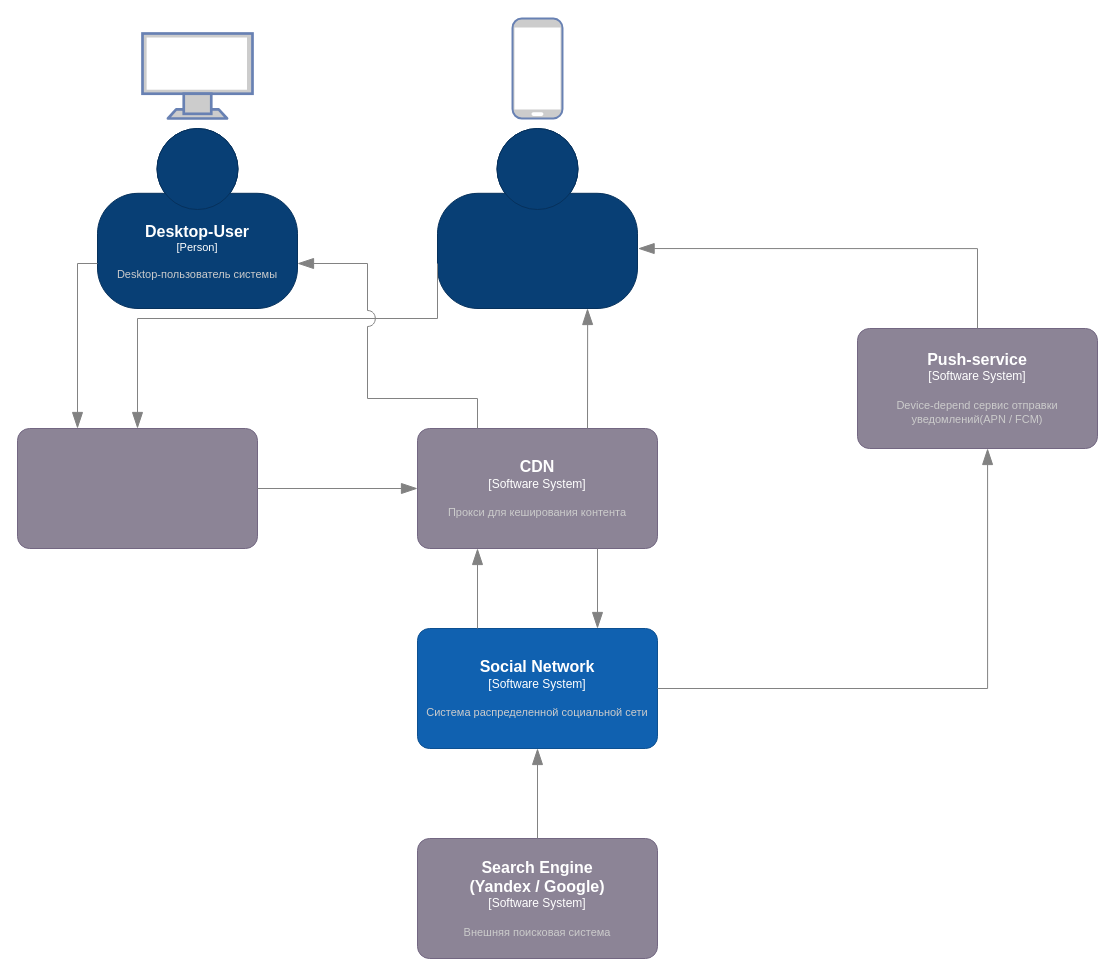
Image size: 1115x976. Some labels were removed from this diagram. The box of each missing label's shape, as (x1, y1, x2, y2) in pixels:
GeoDNS [Software System] DNS с геозависимой выдачей IP-адресов: (16, 428, 258, 548)
Mobile-User [Person] Mobile-пользователь системы: (436, 128, 638, 308)
